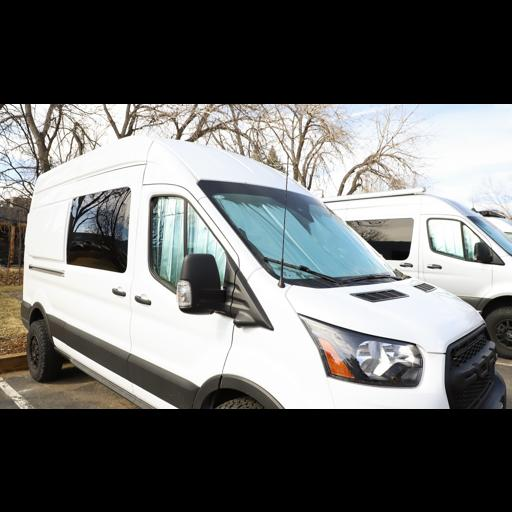van: (22, 137, 504, 406), (310, 190, 511, 359), (463, 205, 511, 248)
